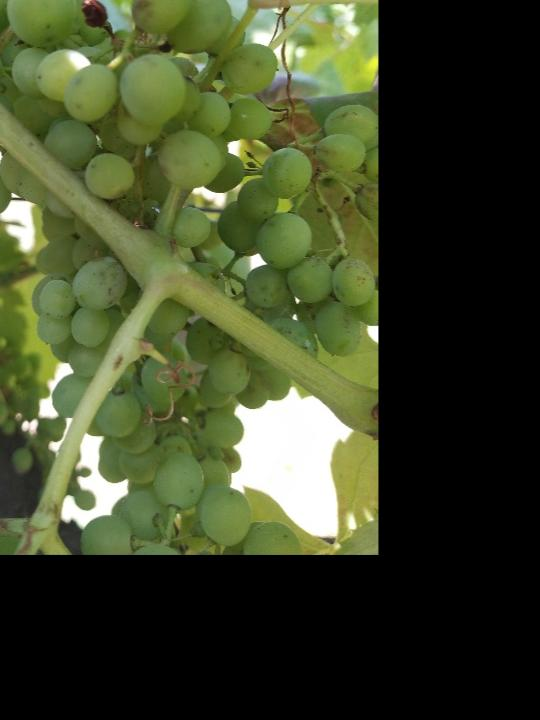grape: (0, 0, 371, 490)
